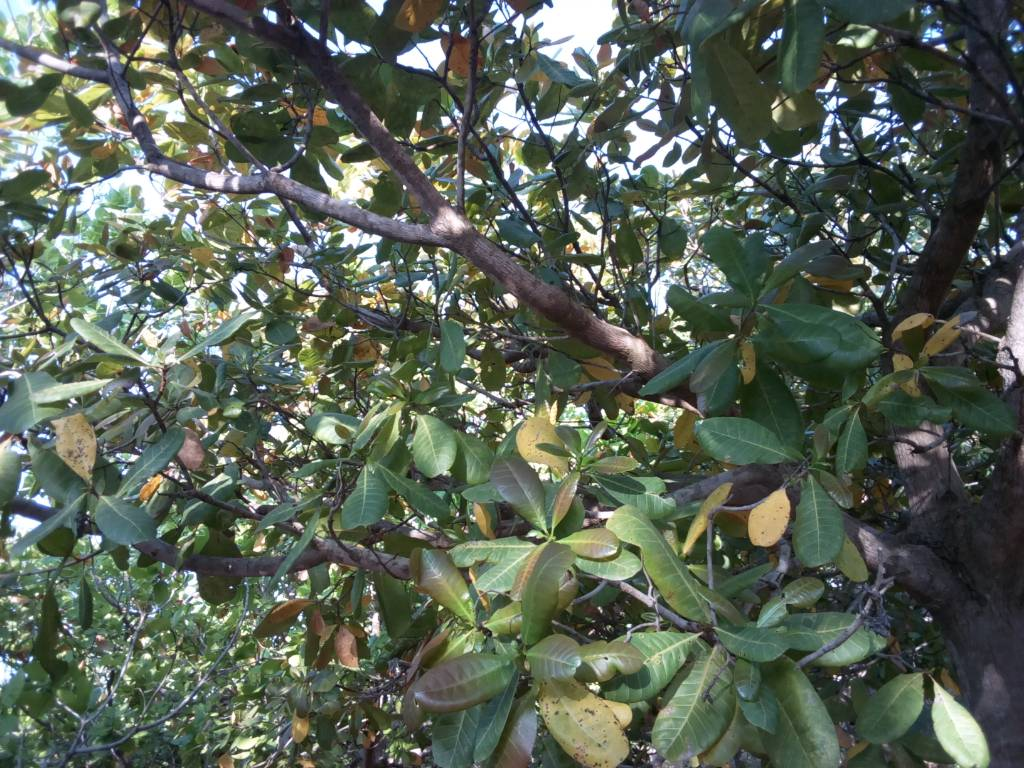Bactériose: (537, 684, 629, 768), (56, 414, 97, 487)
